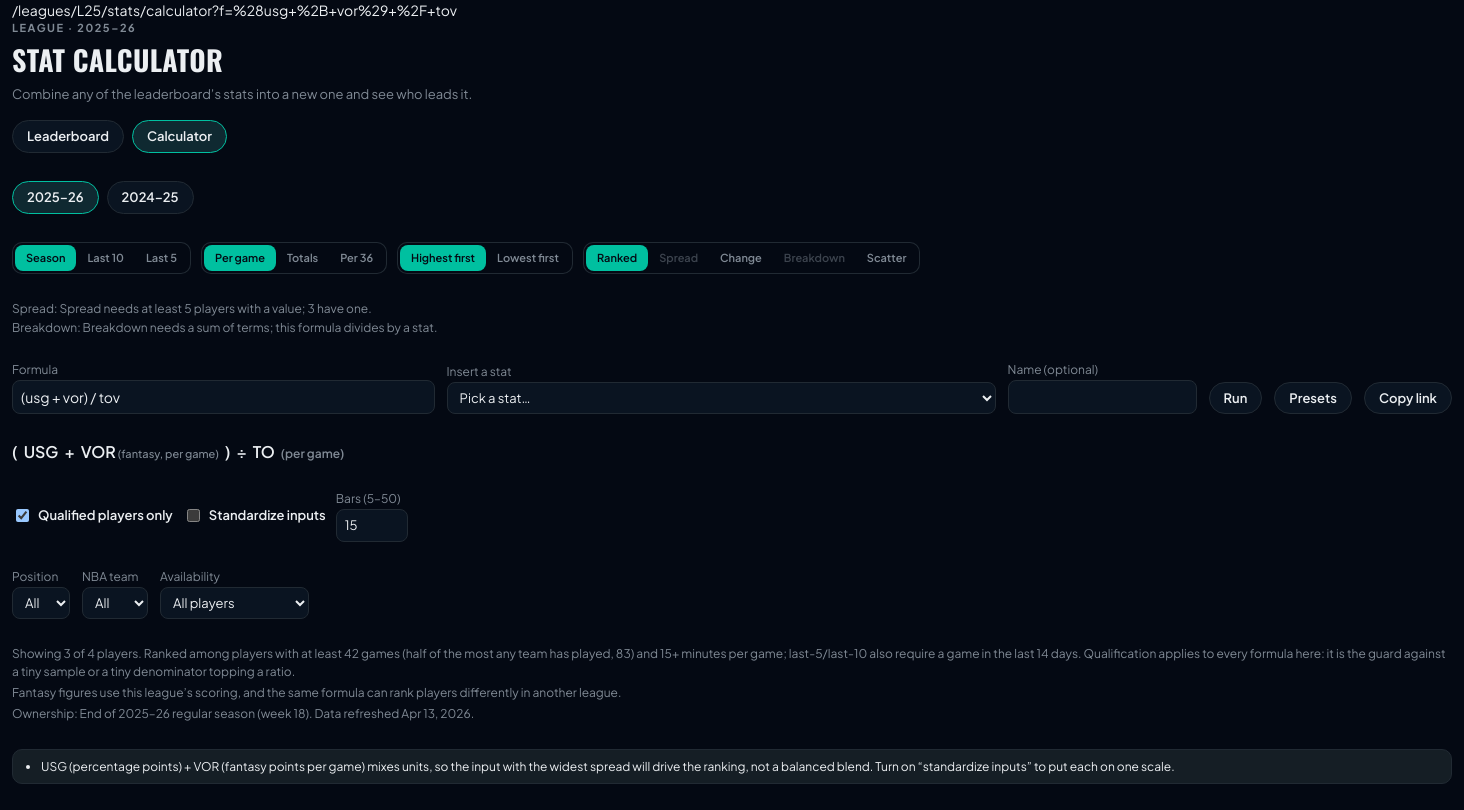
it: StatCalculator › "Rank by: lowest first" reverses chart and table, and the title says so
Check: the field labelled "Formula" is shown, box [12,380,434,414]
Click the button "Lowest first" at (528, 258), box [486,245,570,271]
(page scrolled)
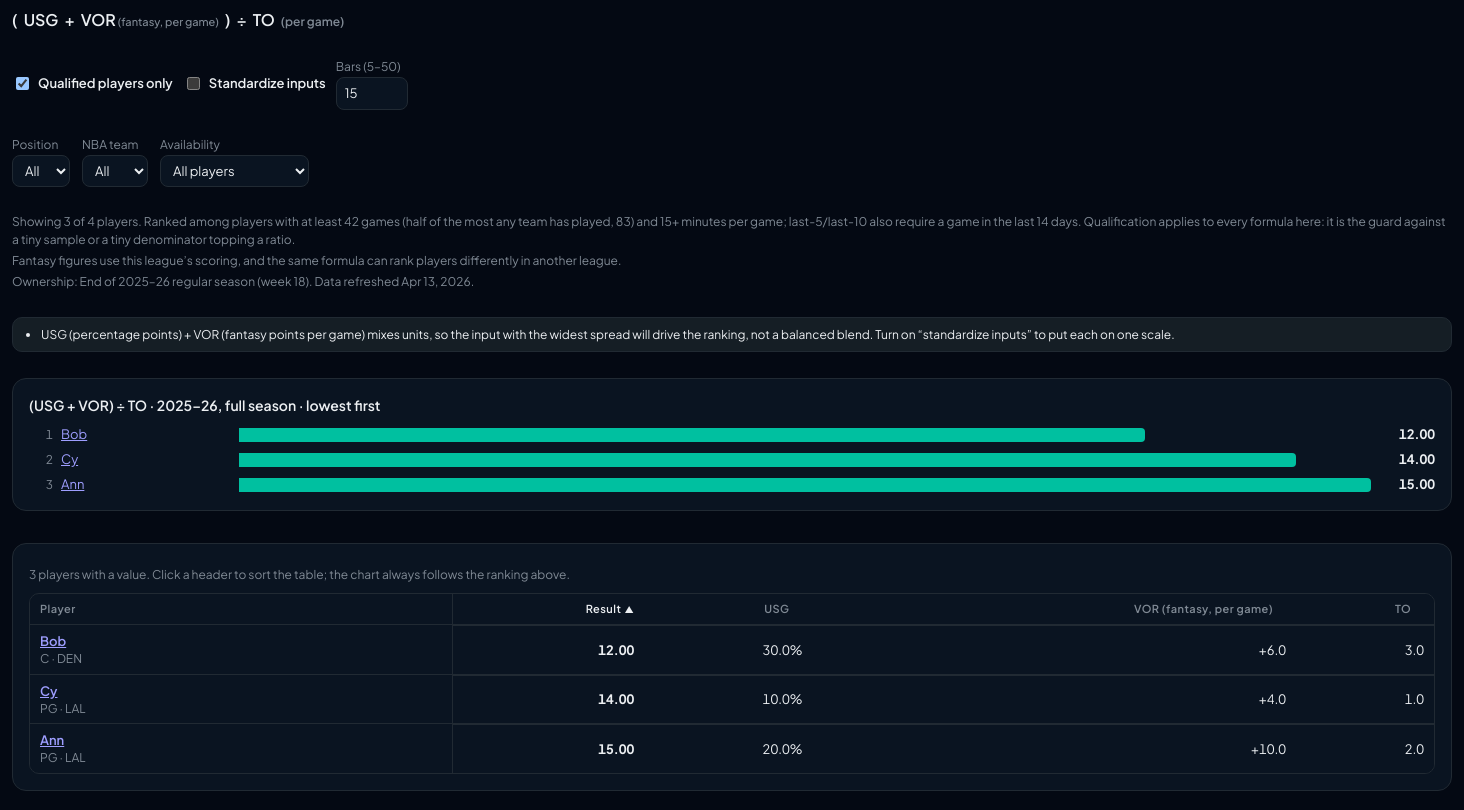
Check: the text "(USG + VOR) ÷ TO · 2025–26, full season · lowest first" is shown, box [29,396,380,414]
